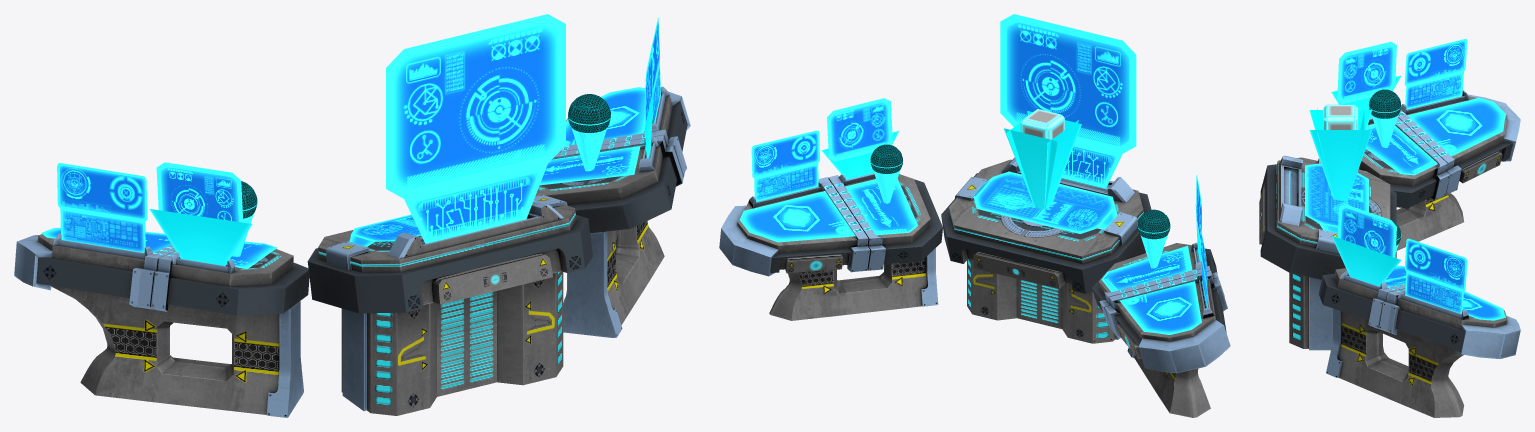
File: uzay kontrol.fbx
3 views of the same model, side by side, from view 1: azimuth 30°, elevation 25°; view 2: azimuth 150°, elevation 25°; view 3: azimuth 270°, elevation 25° (orthographic). The views are drawn at different scales.
Parts seen in each view (by area): view 1: Emissives_low, Sidetables_low, Midtables_low; view 2: Emissives_low, Sidetables_low, Midtables_low; view 3: Emissives_low, Sidetables_low, Midtables_low.
Boxes of the visible parts, left/top/right/bottom form: Emissives_low: left=41, top=14, right=660, bottom=268; Sidetables_low: left=14, top=86, right=690, bottom=417; Midtables_low: left=307, top=195, right=592, bottom=415; Emissives_low: left=739, top=14, right=1207, bottom=334; Sidetables_low: left=719, top=173, right=1230, bottom=417; Midtables_low: left=941, top=157, right=1151, bottom=343; Emissives_low: left=1305, top=39, right=1505, bottom=320; Sidetables_low: left=1318, top=90, right=1520, bottom=417; Midtables_low: left=1259, top=155, right=1396, bottom=350.
Bounding box in the file's own units: 2329 × 1234 × 1070.
